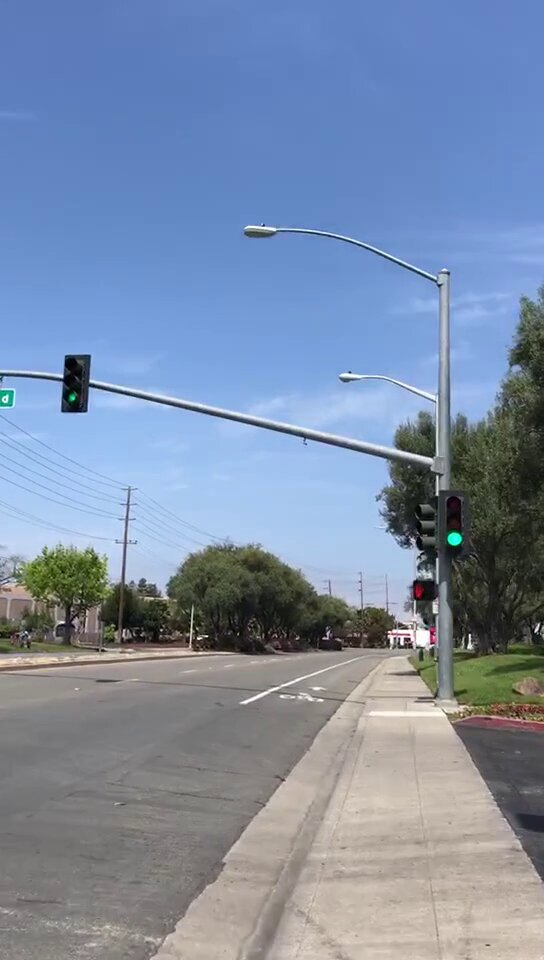green_light: (441, 491, 470, 548), (64, 356, 88, 407)
